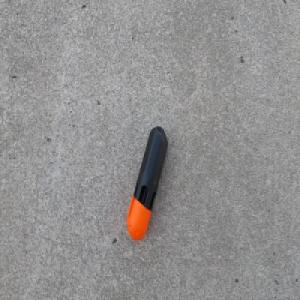PlasticPart: (126, 124, 169, 244)
